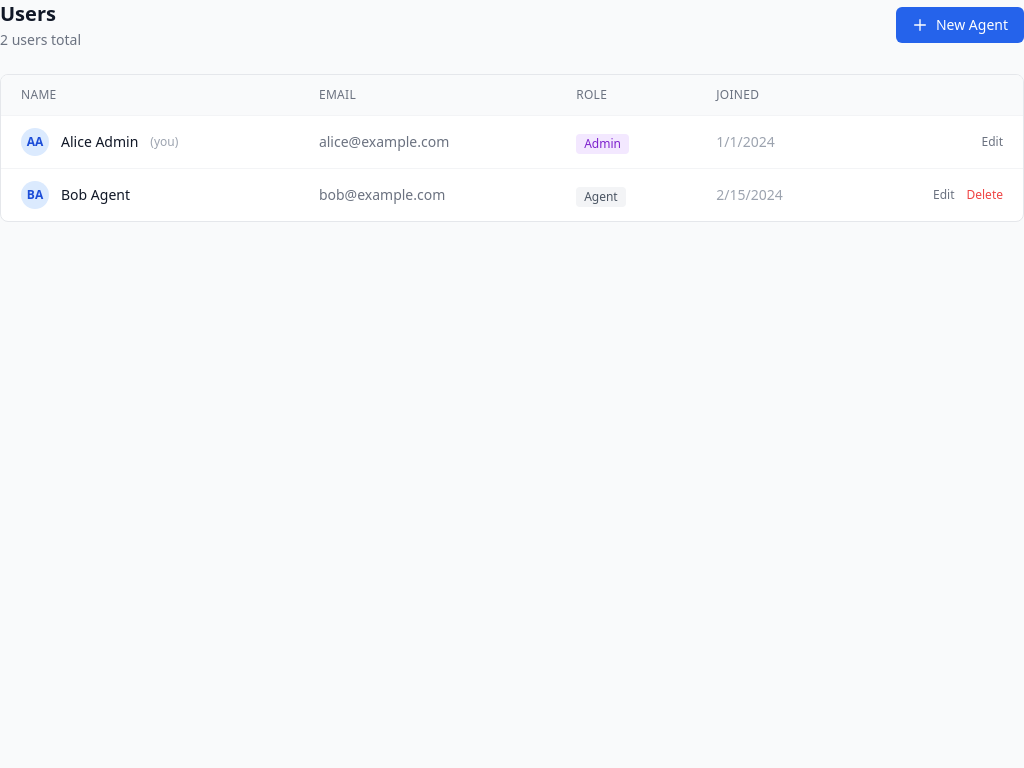
Test: UsersPage › edit user modal › closes the edit modal when Cancel is clicked
The width and height of the screenshot is (1024, 768).
Expected: the text "Bob Agent" is shown, [61, 185, 130, 205]
Click the button "Edit" in the row of "BA" at (944, 195), box [933, 187, 954, 203]
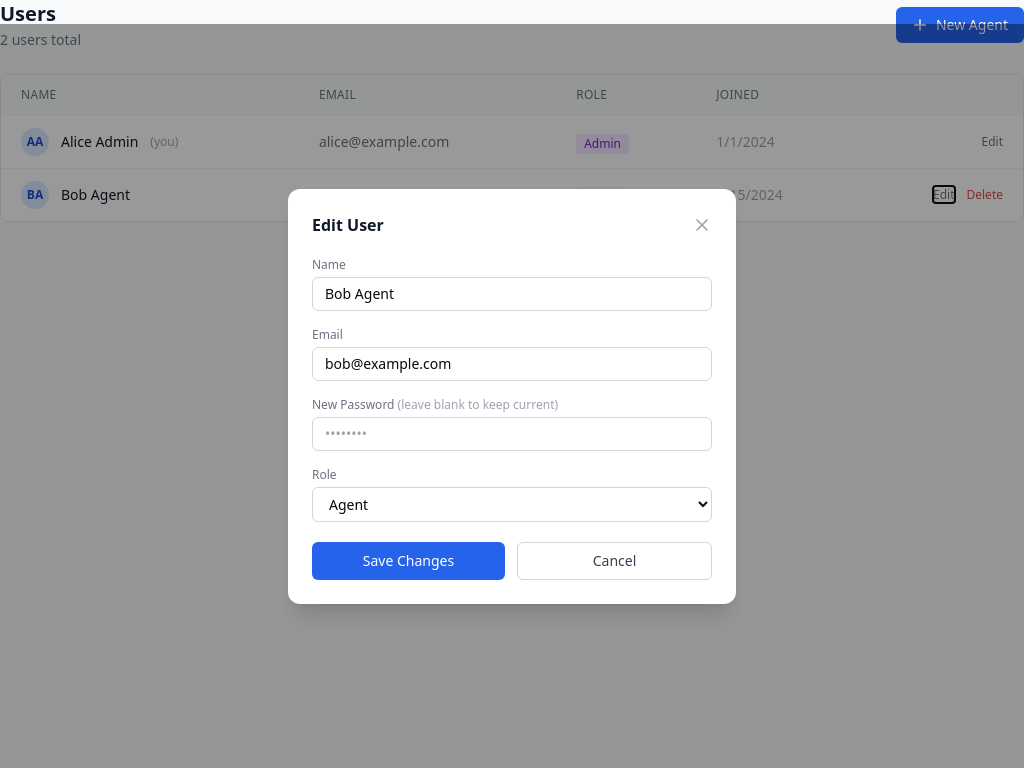
Click the button "Cancel" at (614, 560), box [517, 542, 712, 580]
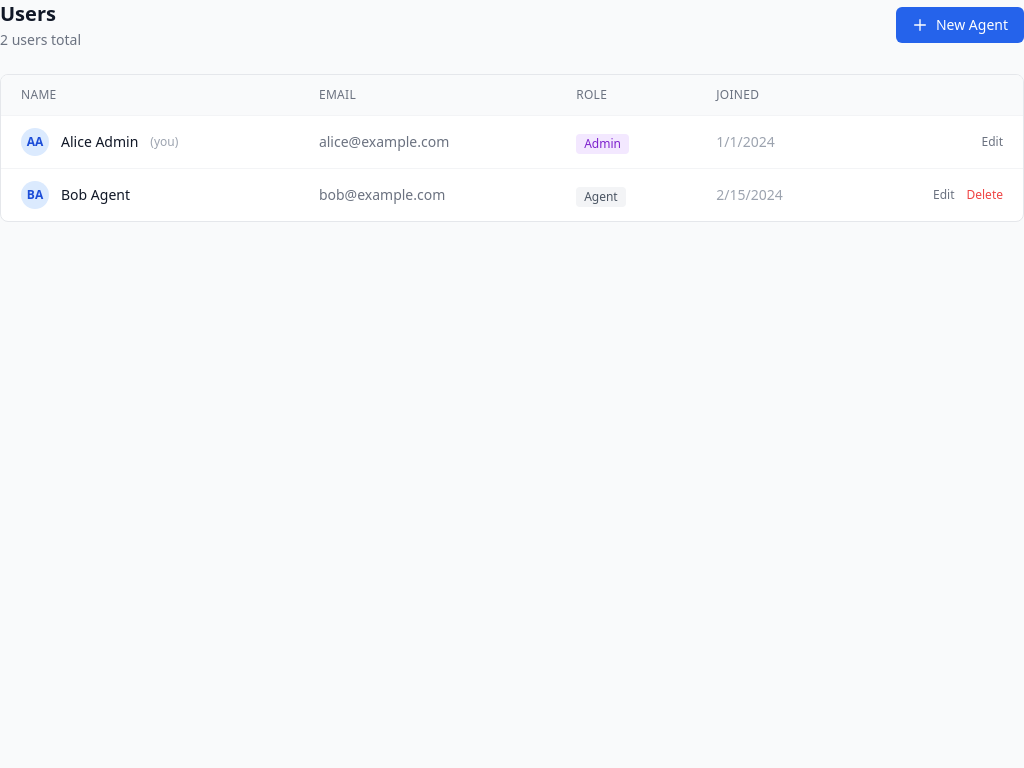
Expected: the heading "Edit User" is gone
